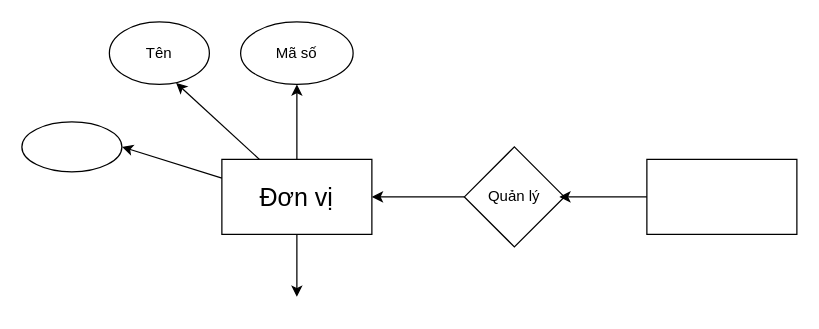
The diagram is 819 pixels wide and 329 high, and some of its shapes have lost their labels. The box of each missing label's shape, as (x1, y1, x2, y2) in pixels:
Nhân viên: (646, 158, 797, 234)
Địa điểm: (21, 121, 122, 172)
